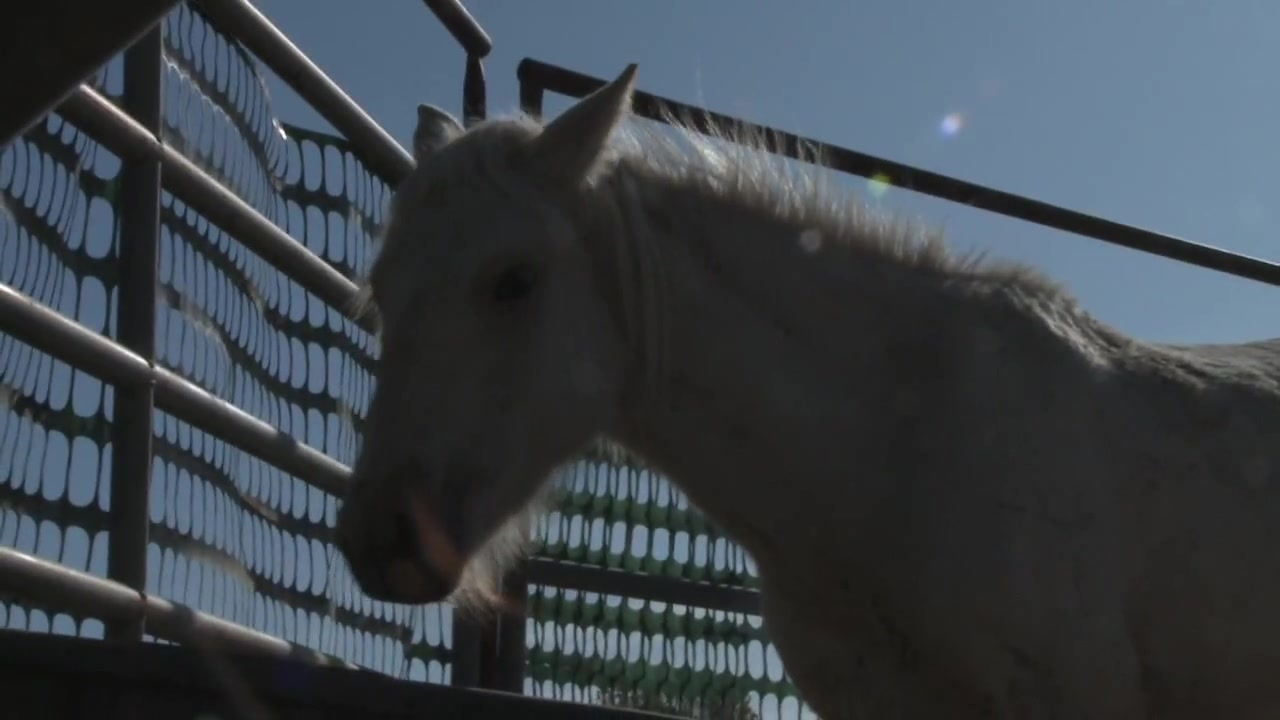horse: (329, 61, 1280, 720)
